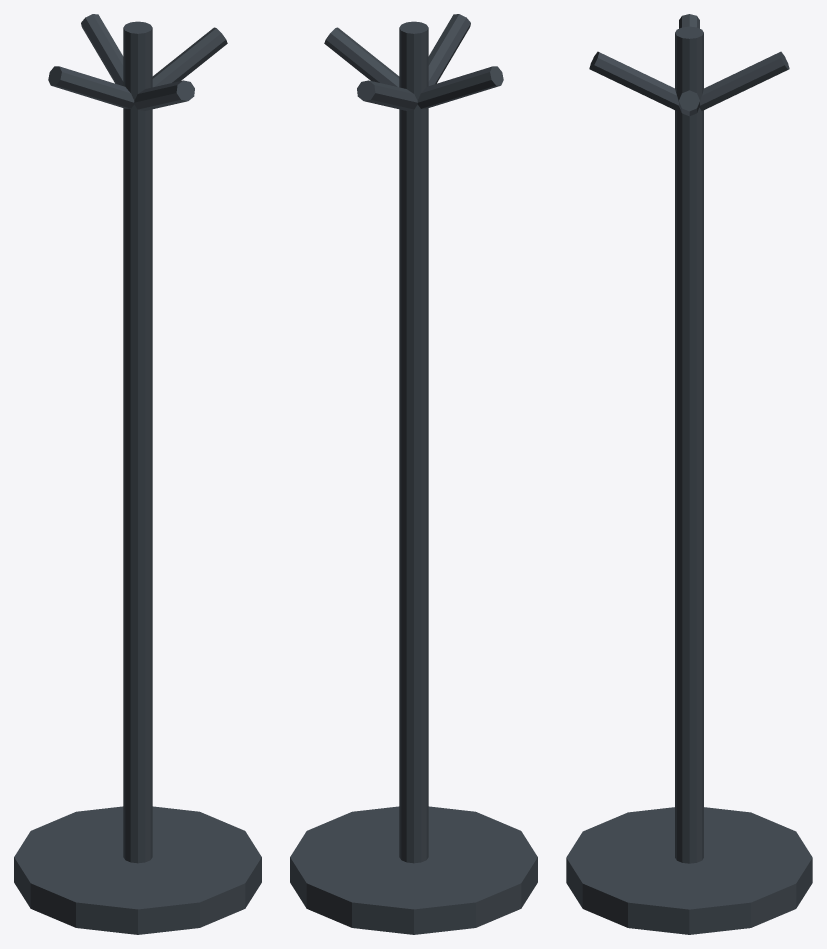
File: CoatStand.fbx
The picture shows the model from 3 angles, left to right: view 1: azimuth 30°, elevation 25°; view 2: azimuth 150°, elevation 25°; view 3: azimuth 270°, elevation 25°; orthographic projection.
Visible parts, largest first — view 1: CoatStand; view 2: CoatStand; view 3: CoatStand.
Boxes of the visible parts, x1,y1,x2,y2 form: CoatStand: [14, 14, 261, 934]; CoatStand: [290, 14, 537, 934]; CoatStand: [566, 14, 812, 934].
Bounding box in the file's own units: 44 × 168 × 44.
1 material, 1 textured.
